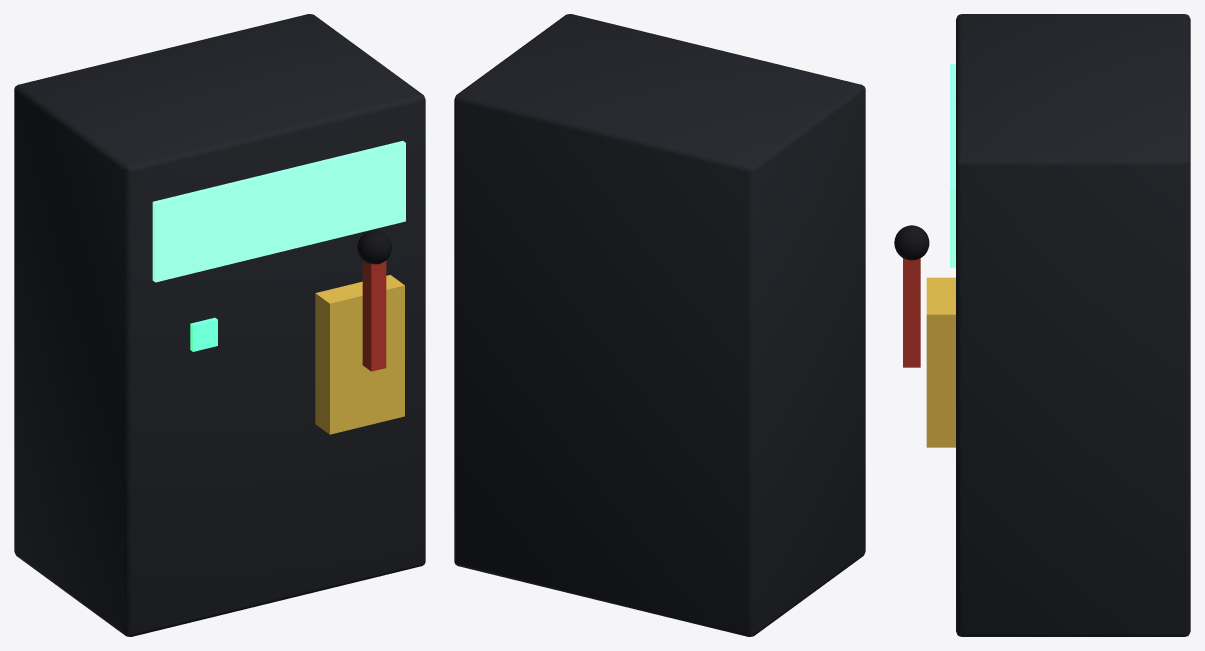
Rendered from ups_unit.glb.
3 renders of one model, left to right at view 1: azimuth 30°, elevation 25°; view 2: azimuth 150°, elevation 25°; view 3: azimuth 270°, elevation 25°, orthographic.
Parts seen in each view (by area): view 1: ups, lever, light; view 2: ups; view 3: ups, lever.
Boxes of the visible parts, box(x1,y1,x2,y2) form: ups: box(14, 14, 425, 636); lever: box(357, 230, 391, 371); light: box(190, 317, 217, 351); ups: box(454, 14, 865, 636); ups: box(926, 14, 1190, 636); lever: box(894, 225, 929, 367).
Size of the model in its own units: 1.2 by 1.8 by 1.01.
